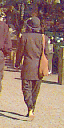person: (17, 16, 49, 119)
